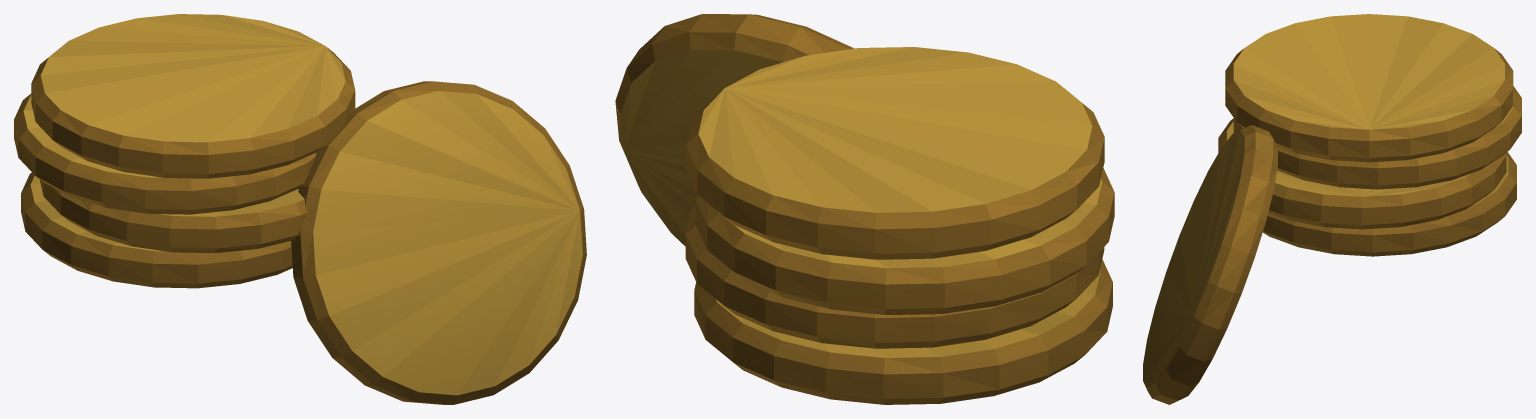
The model's file is coin_stack.glb.
3 renders of one model, left to right at view 1: azimuth 30°, elevation 25°; view 2: azimuth 150°, elevation 25°; view 3: azimuth 270°, elevation 25°, orthographic. The views are drawn at different scales.
Parts seen in each view (by area): view 1: coin_stack; view 2: coin_stack; view 3: coin_stack.
Boxes of the visible parts, x1=… form: coin_stack: x1=14, y1=14, x2=586, y2=404; coin_stack: x1=615, y1=14, x2=1114, y2=404; coin_stack: x1=1143, y1=14, x2=1521, y2=404.
Size of the model in its own units: 0.545 by 0.3203 by 0.4425.
